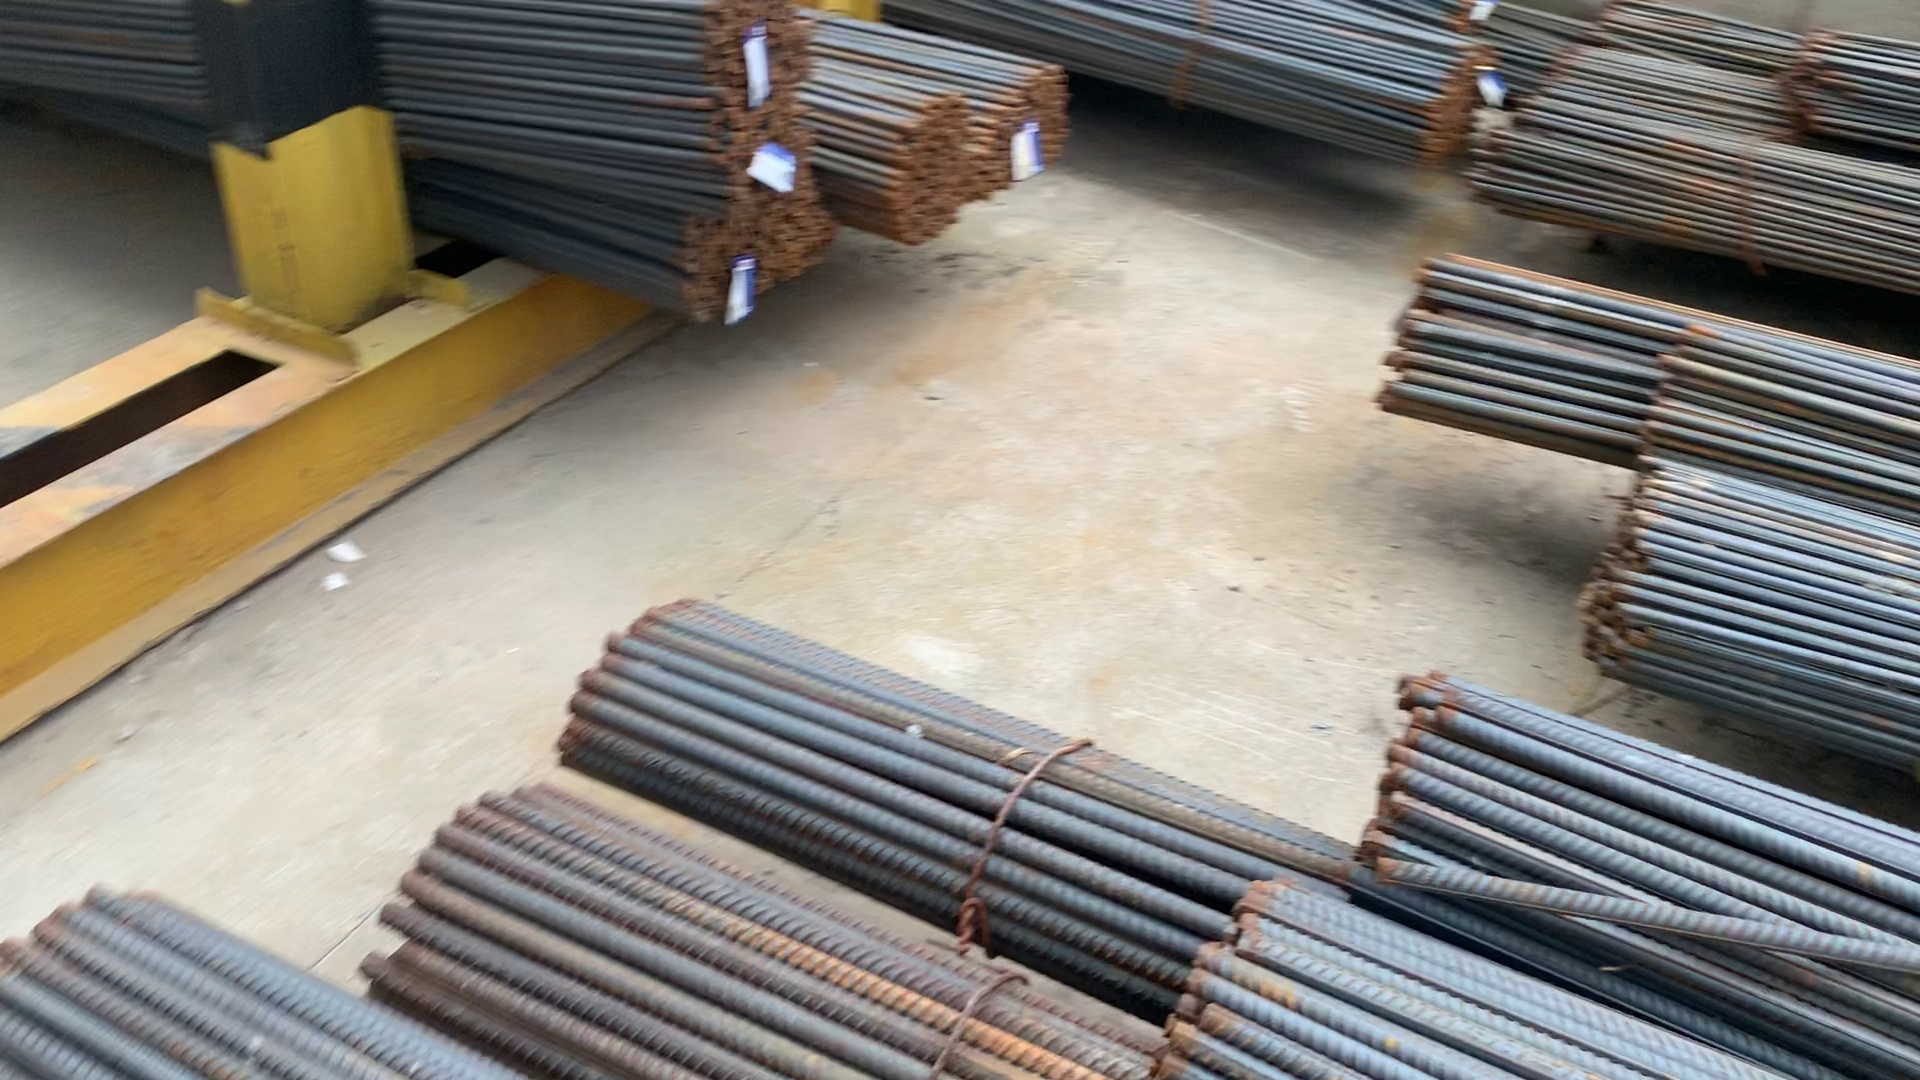rebar: (679, 177, 829, 315), (692, 8, 803, 179), (887, 96, 972, 243), (985, 69, 1072, 193), (1420, 49, 1485, 161)
